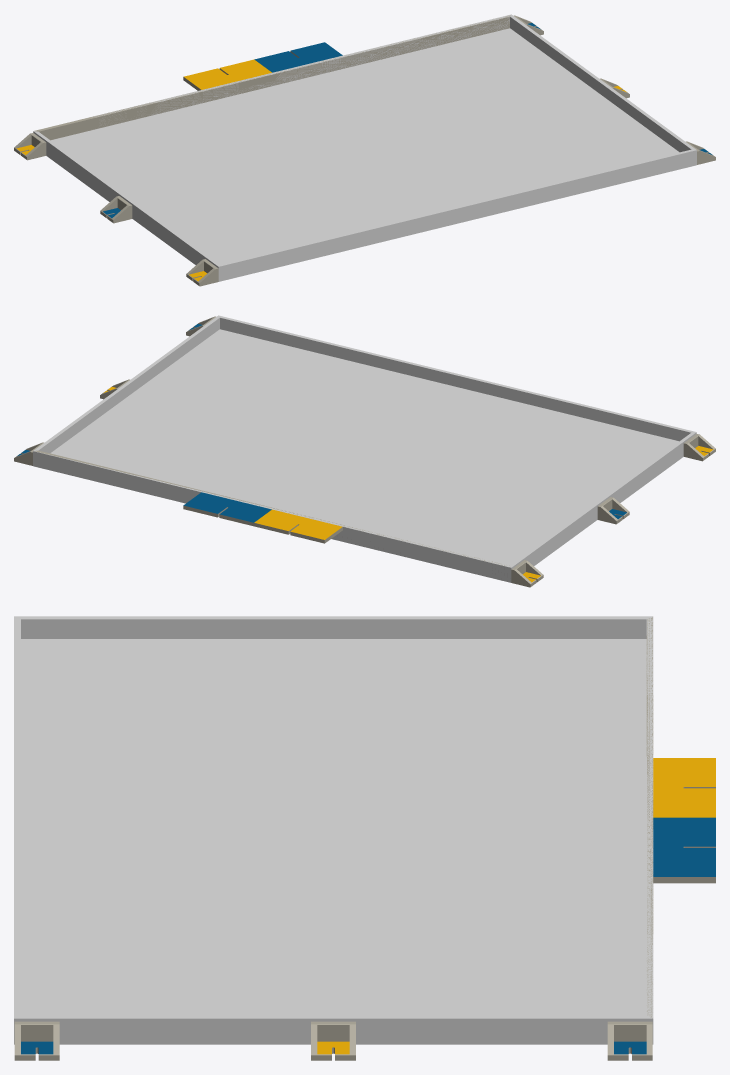
The model's file is board.glb.
3 views of the same model, one above another, from view 1: azimuth 30°, elevation 25°; view 2: azimuth 150°, elevation 25°; view 3: azimuth 270°, elevation 25° (orthographic). The views are drawn at different scales.
Visible parts, largest first — view 1: table, bottom, edgeS, edgeN, edgeW, edgeE; view 2: table, bottom, edgeS, edgeN, edgeW, edgeE; view 3: bottom, table, edgeE, edgeW, edgeN, edgeS.
Boxes of the visible parts, <box> form: table: <box>14,15,715,286</box>; bottom: <box>51,28,620,264</box>; edgeS: <box>218,149,696,281</box>; edgeN: <box>92,14,511,129</box>; edgeW: <box>33,131,219,268</box>; edgeE: <box>510,14,696,152</box>; table: <box>14,316,715,587</box>; bottom: <box>50,330,678,565</box>; edgeS: <box>218,315,695,441</box>; edgeN: <box>33,451,511,582</box>; edgeW: <box>510,432,696,569</box>; edgeE: <box>33,315,219,453</box>; bottom: <box>21,639,646,1015</box>; table: <box>14,617,715,1060</box>; edgeE: <box>14,1016,653,1044</box>; edgeW: <box>14,616,652,638</box>; edgeN: <box>646,616,653,1018</box>; edgeS: <box>14,616,20,1018</box>.
Size of the model in its own units: 3.29 by 0.092 by 2.24.
